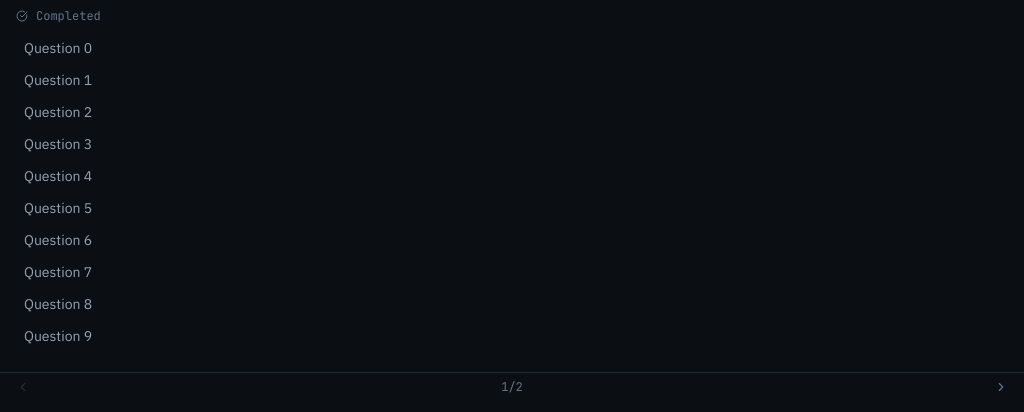
PaginatedSection › paginates with arrow buttons
expect the text "1/2" is shown: met, box [501,379,523,395]
expect the link "Question 0" is shown: met, box [24,39,92,57]
Click the button named "Next Completed page".
click(1001, 387)  # box [994,380,1008,394]
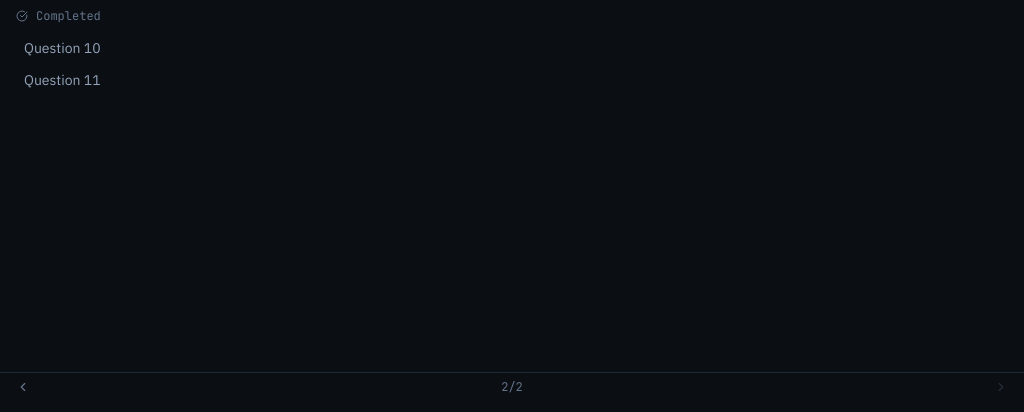
expect the link "Question 10" is shown: met, box [24,39,101,57]
expect the text "2/2" is shown: met, box [501,379,523,395]
Click the button named "Previous Completed page".
click(23, 387)  # box [16,380,30,394]
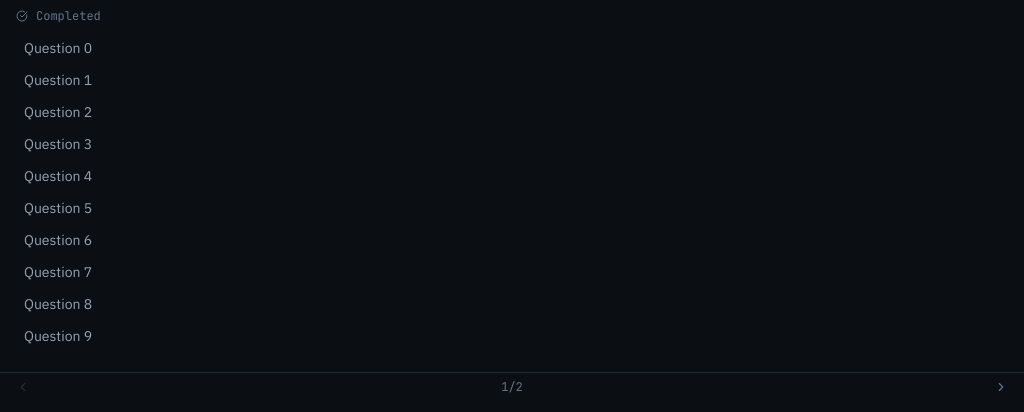
expect the link "Question 0" is shown: met, box [24,39,92,57]
